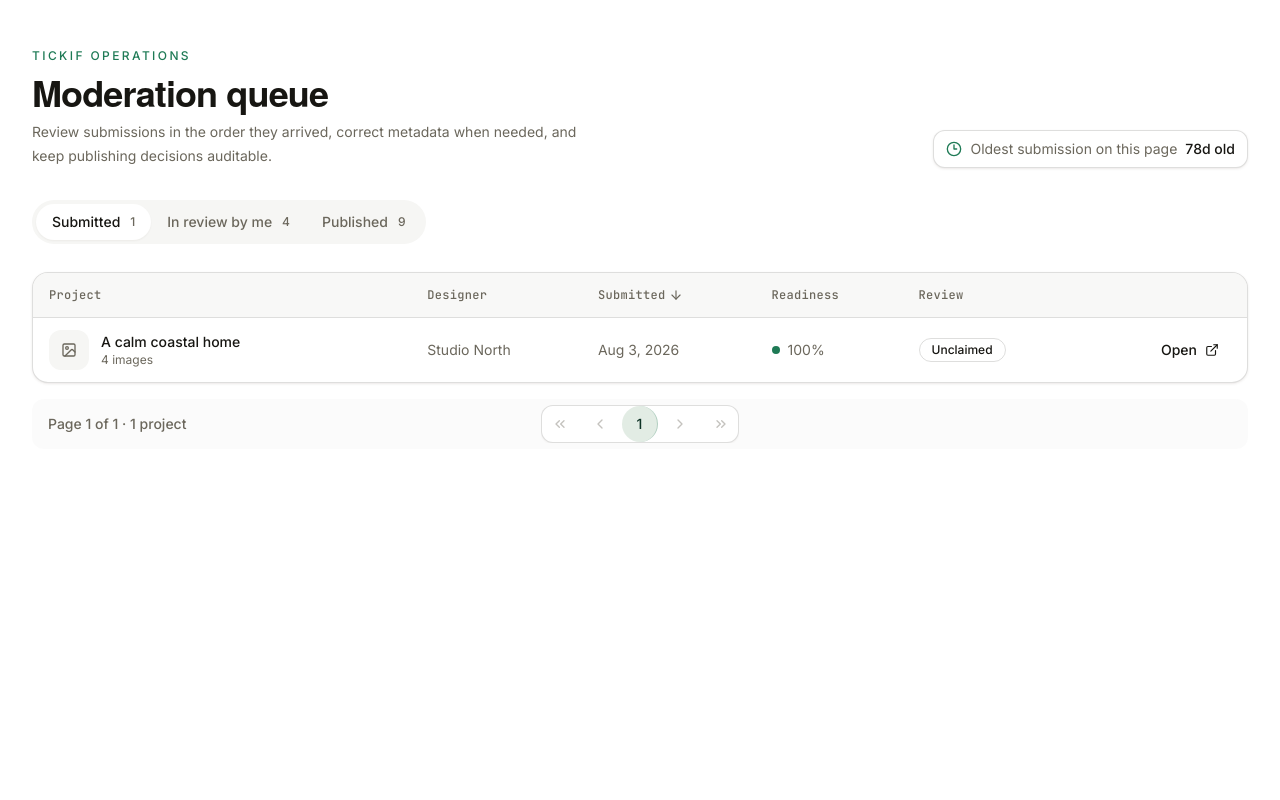
Test case: AdminModerationQueue › claims a submission and then enables the current admin review actions
Click the button with aria-label "open review for a calm coastal home": coordinates (1190, 350) [1149,332,1231,368]
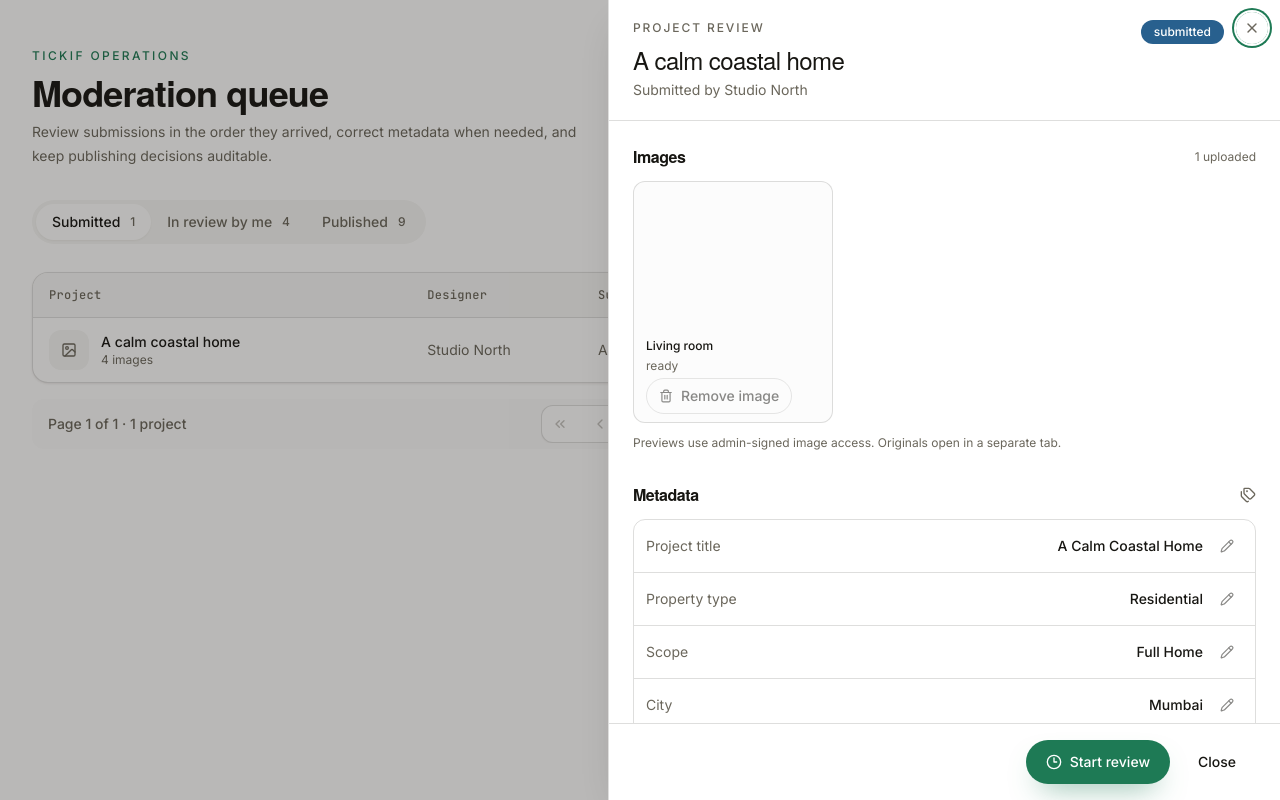
expect the button "Start review" is shown: met
Click the button "Start review": coordinates (1098, 762) [1026,740,1170,784]
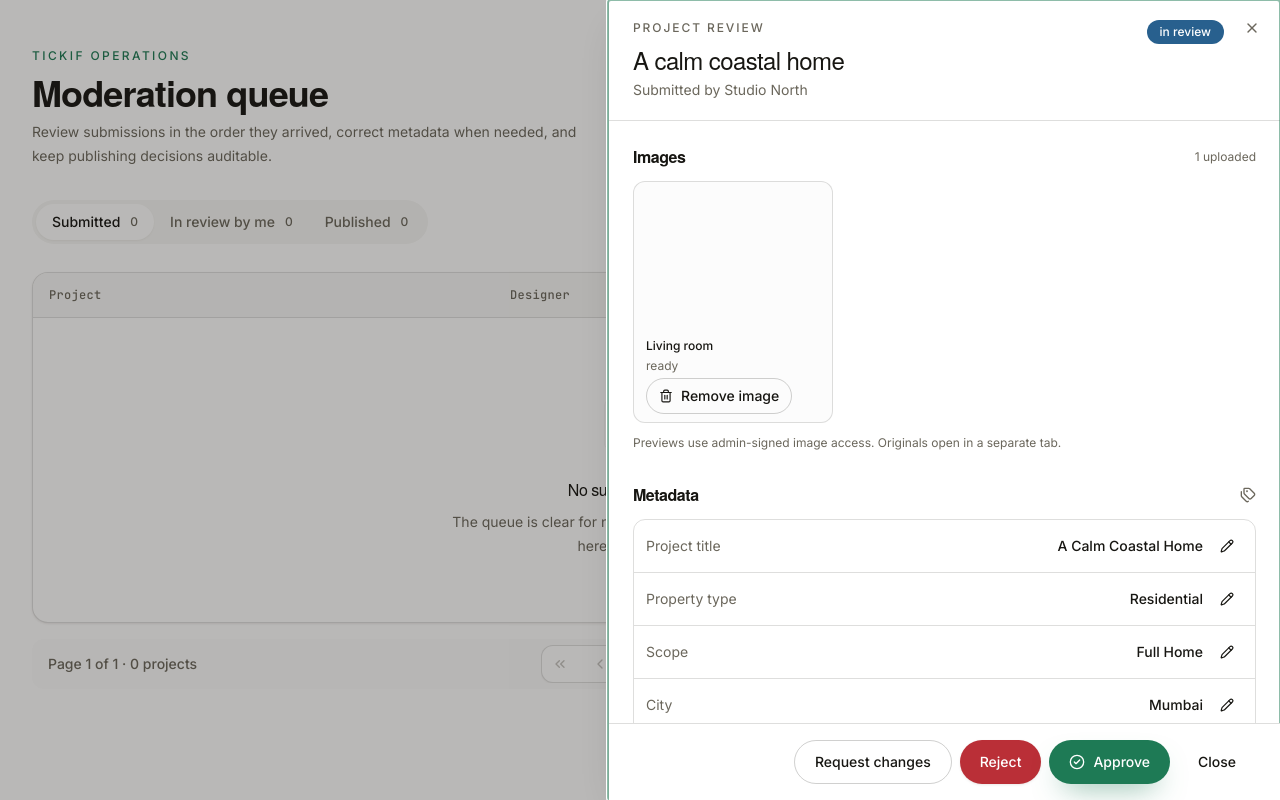
expect the button "Approve" is enabled: met, box [1049,740,1170,784]
